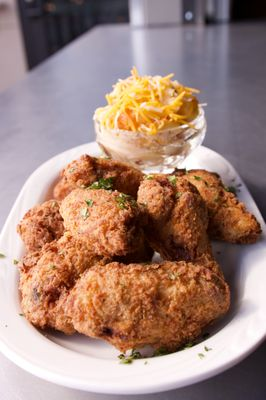curry: (1, 19, 266, 372)
